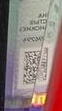2d: (20, 48, 48, 86)
